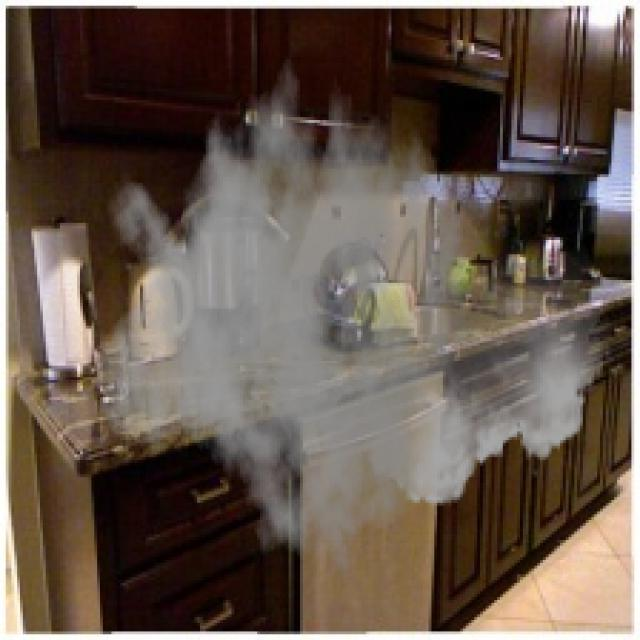smoke: (94, 32, 612, 574)
